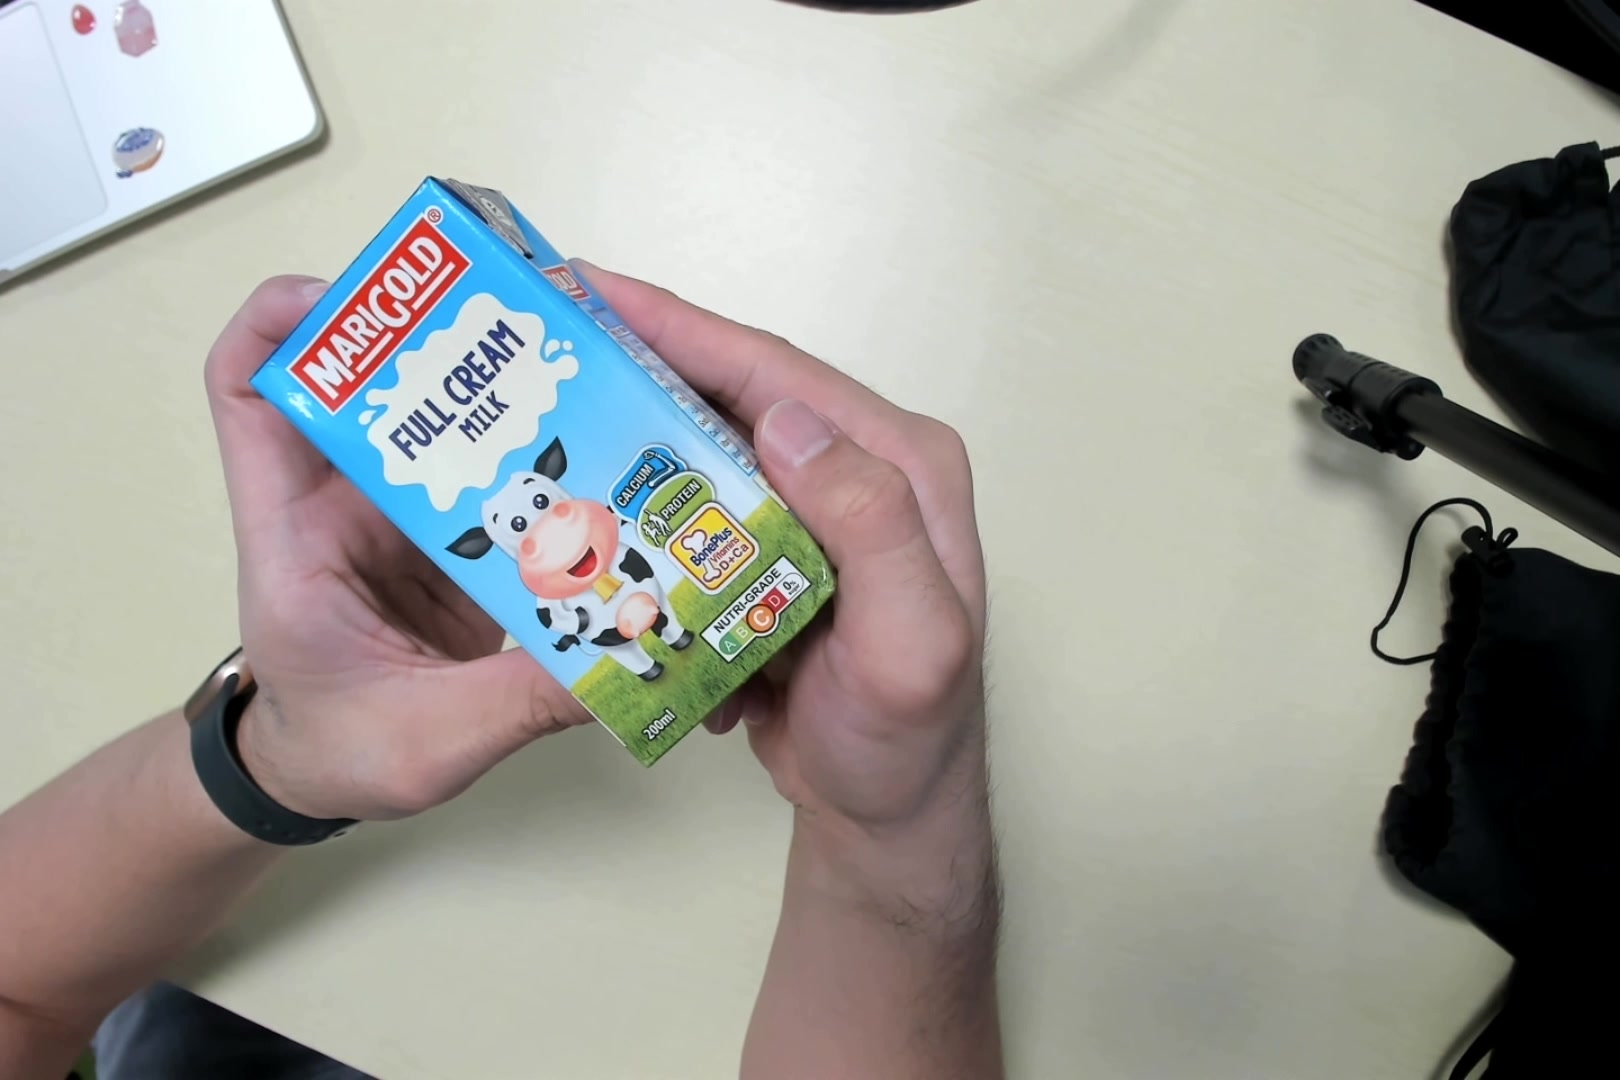Milk(Drink)_200-299g_Halal_NonHealthy: (264, 163, 838, 771)
